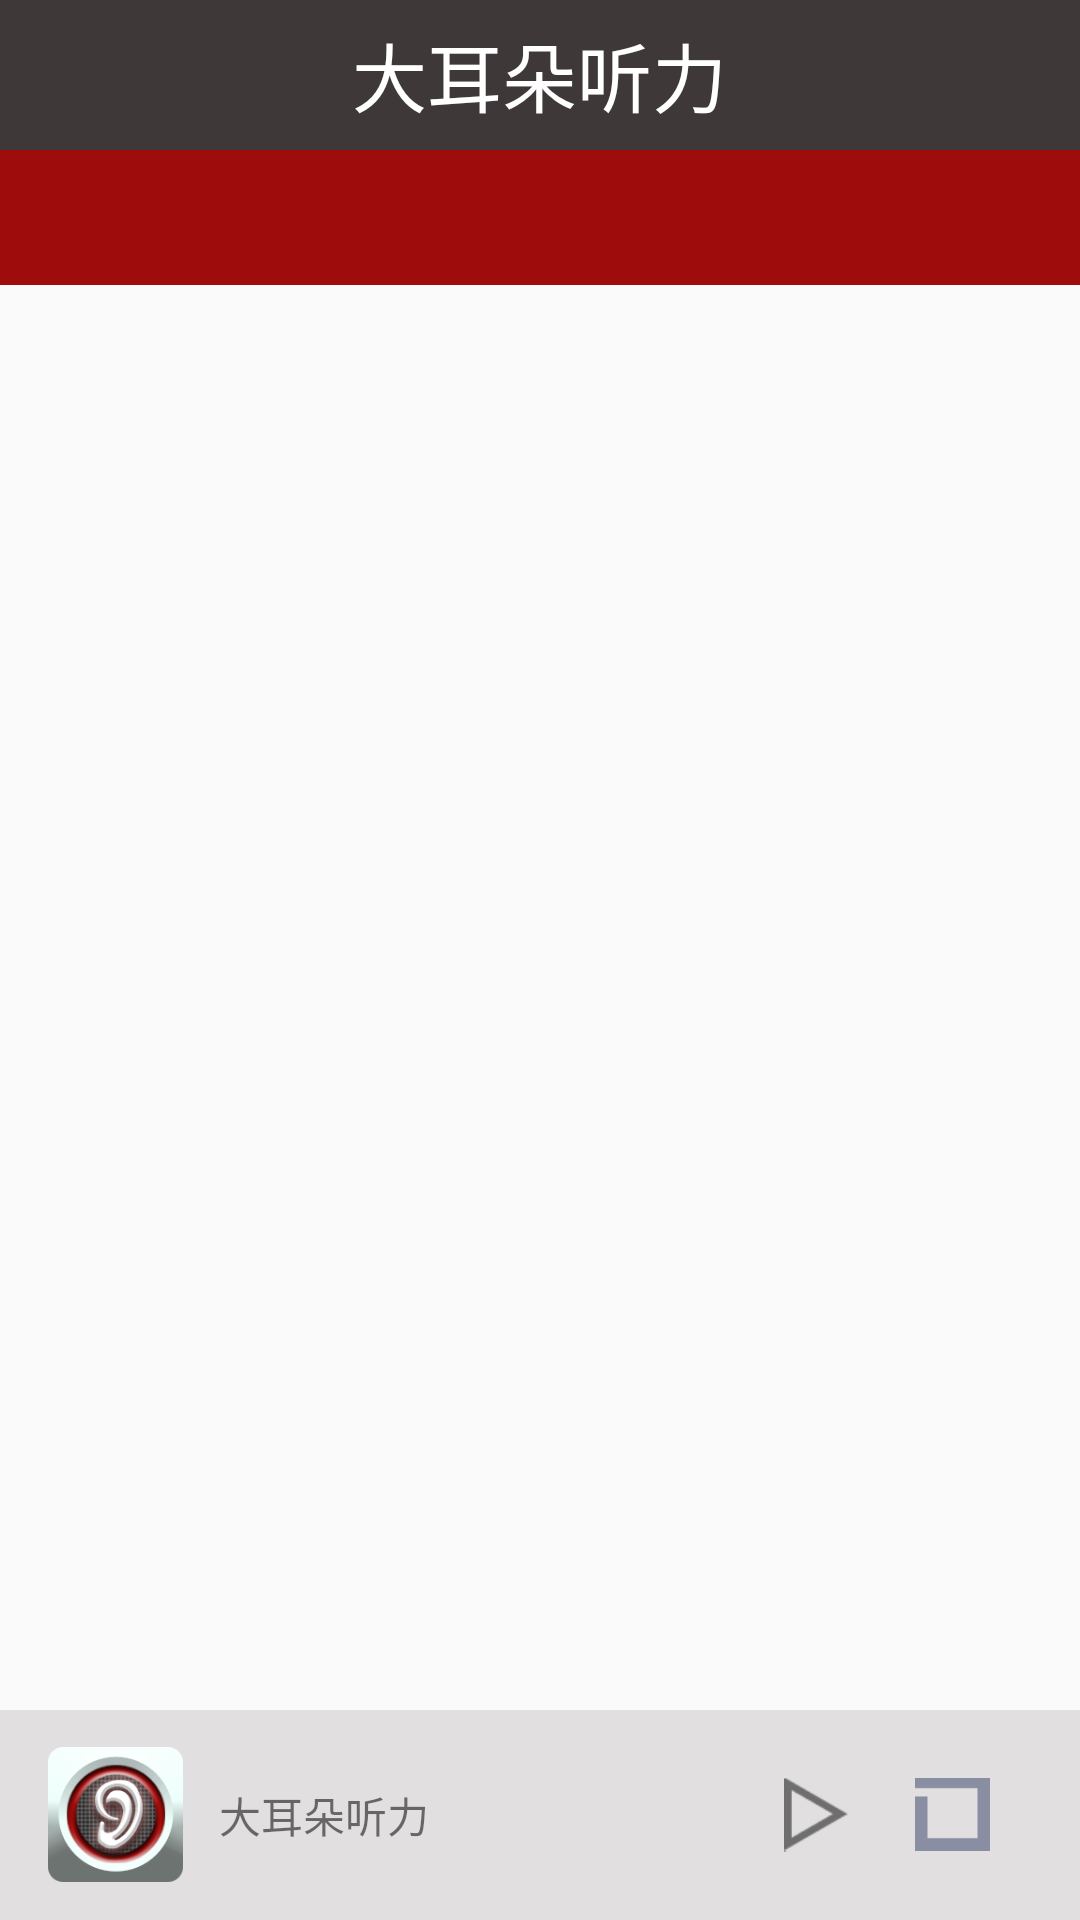

Where icons sit on this 1080px x 1920px app screen, as (x1, y1, x2, y2):
app: (48, 1747, 183, 1882)
play: (784, 1778, 847, 1852)
stop: (915, 1778, 990, 1851)
